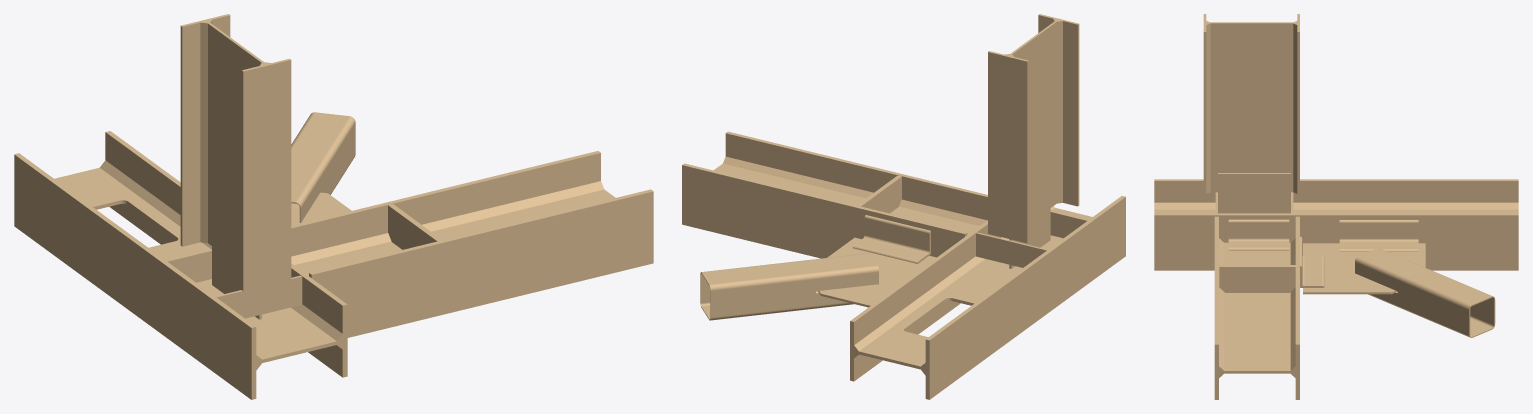
The model's file is steelplates.glb.
3 renders of one model, left to right at view 1: azimuth 30°, elevation 25°; view 2: azimuth 150°, elevation 25°; view 3: azimuth 270°, elevation 25°, orthographic. The views are drawn at different scales.
Size of the model in its own units: 1.64 by 1.06 by 1.52.
